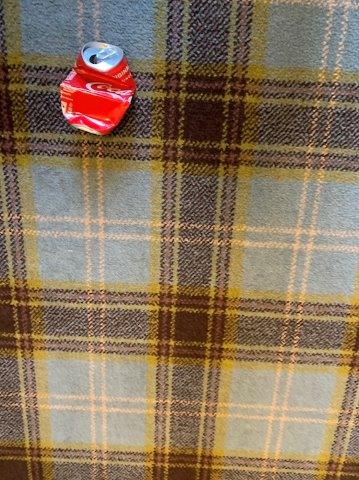kaleng: (61, 44, 133, 135)
